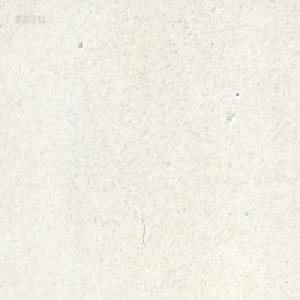Wrench: (148, 0, 155, 4)
